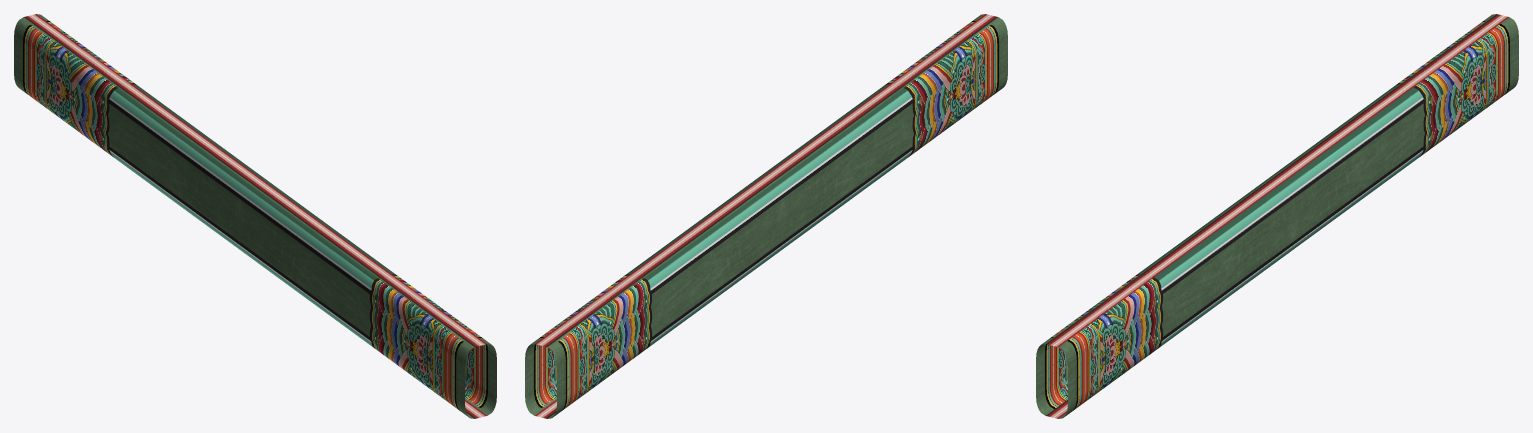
Rendered from SM_ChangBang02H.fbx.
The picture shows the model from 3 angles, left to right: view 1: azimuth 30°, elevation 25°; view 2: azimuth 150°, elevation 25°; view 3: azimuth 330°, elevation 25°; orthographic projection.
Parts seen in each view (by area): view 1: SM_ChangBang02H; view 2: SM_ChangBang02H; view 3: SM_ChangBang02H.
Part boxes in pixels (bbox=[...]): SM_ChangBang02H: bbox=[14, 14, 496, 418]; SM_ChangBang02H: bbox=[525, 14, 1007, 418]; SM_ChangBang02H: bbox=[1036, 14, 1518, 418].
Bounding box in the file's own units: 15.74 × 387 × 34.01.
1 material, 1 textured.
